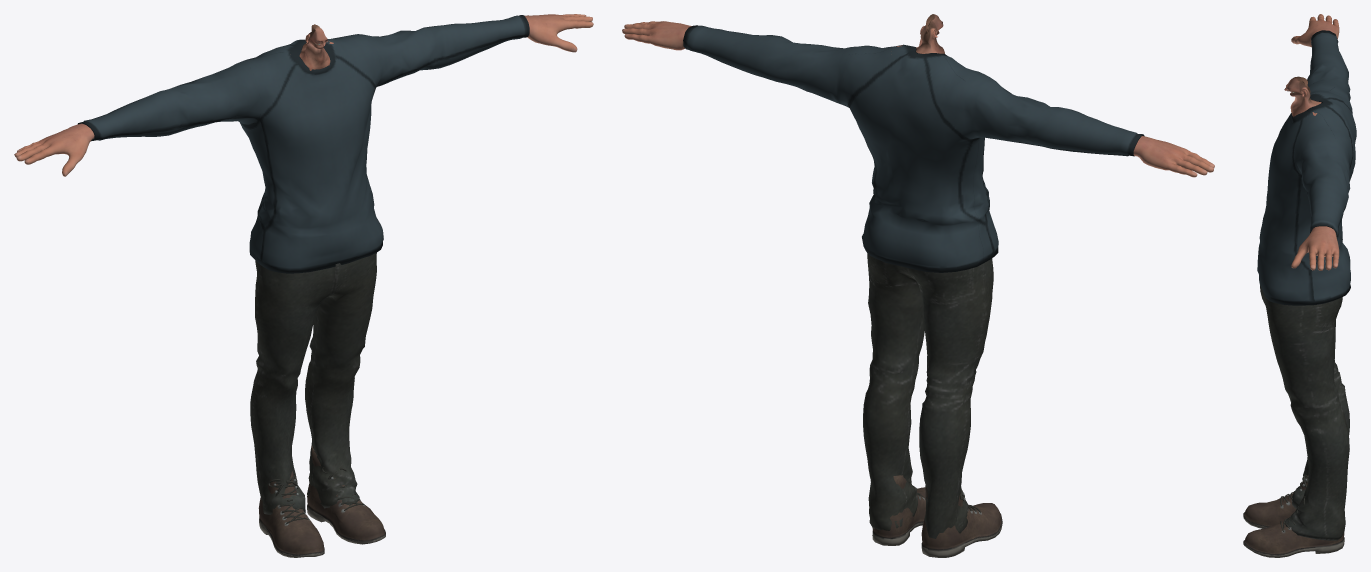
Rendered from Self_Male_OBJ.obj.
3 renders of one model, left to right at view 1: azimuth 30°, elevation 25°; view 2: azimuth 150°, elevation 25°; view 3: azimuth 270°, elevation 25°, orthographic. The views are drawn at different scales.
Visible parts, largest first — view 1: Tops, Bottoms, Shoes, Body; view 2: Tops, Bottoms, Body, Shoes; view 3: Tops, Bottoms, Shoes, Body.
Part boxes in pixels (x1=…): Tops: x1=77, y1=15, x2=529, y2=273; Bottoms: x1=250, y1=252, x2=376, y2=514; Shoes: x1=258, y1=445, x2=385, y2=557; Body: x1=14, y1=14, x2=593, y2=176; Tops: x1=683, y1=25, x2=1144, y2=272; Bottoms: x1=863, y1=253, x2=993, y2=538; Body: x1=622, y1=14, x2=1214, y2=177; Shoes: x1=872, y1=475, x2=1002, y2=557; Tops: x1=1257, y1=30, x2=1356, y2=305; Bottoms: x1=1260, y1=285, x2=1349, y2=540; Shoes: x1=1243, y1=473, x2=1344, y2=557; Body: x1=1284, y1=14, x2=1339, y2=270.
Size of the model in its own units: 194 by 163 by 36.59.
1 material, 1 textured.
